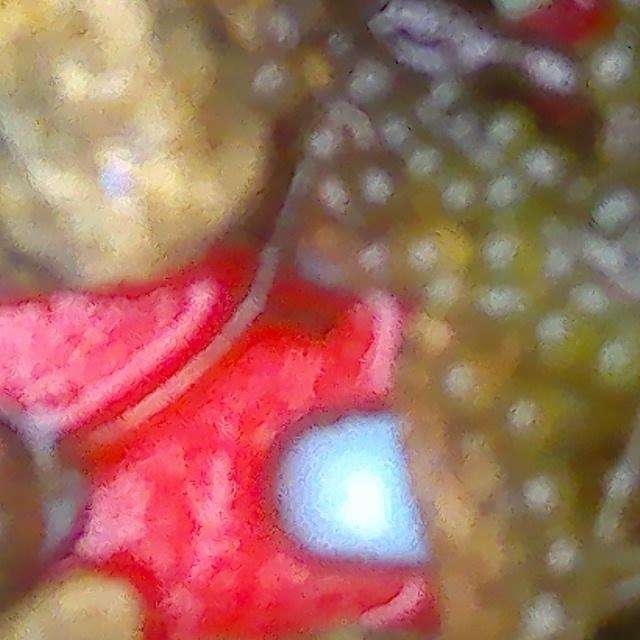SeaGrape: (361, 163, 413, 224), (343, 57, 397, 111), (248, 59, 293, 110)
